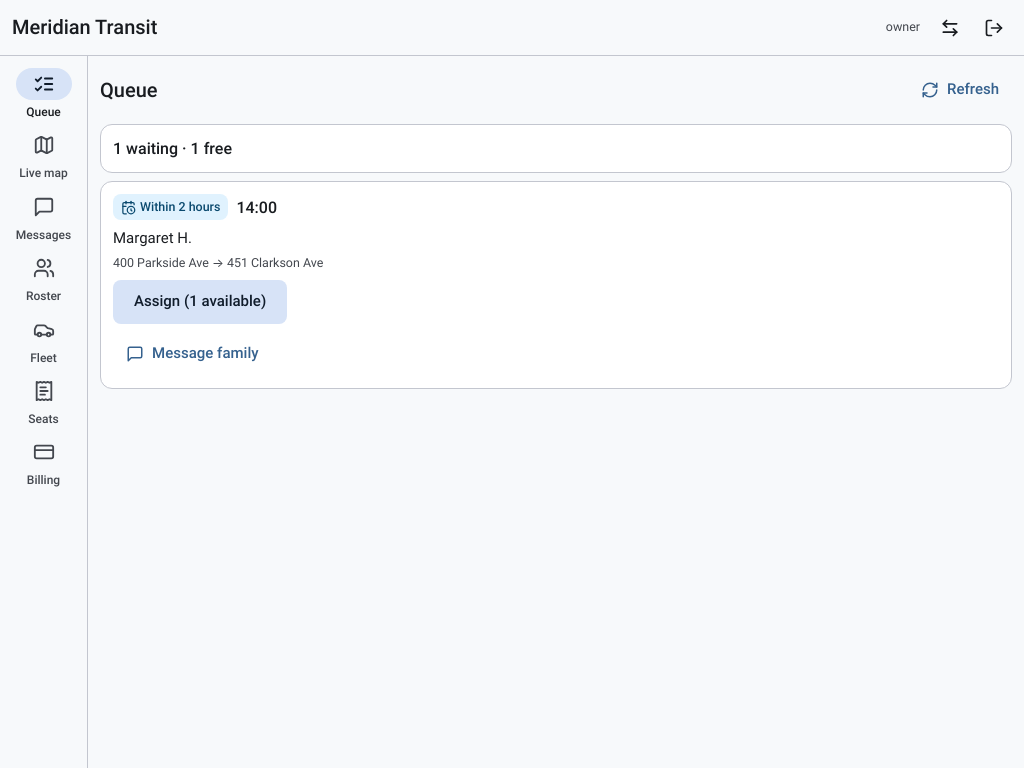
Test case: signing out › clears the session and the chosen operator
The width and height of the screenshot is (1024, 768).
Expected: the heading "Queue" is shown, [100,78,158,102]
What coordinates should you click on to do the following:
click the button named "Sign out"
I would click on:
 (994, 28)
Its box is [972,6,1016,50].
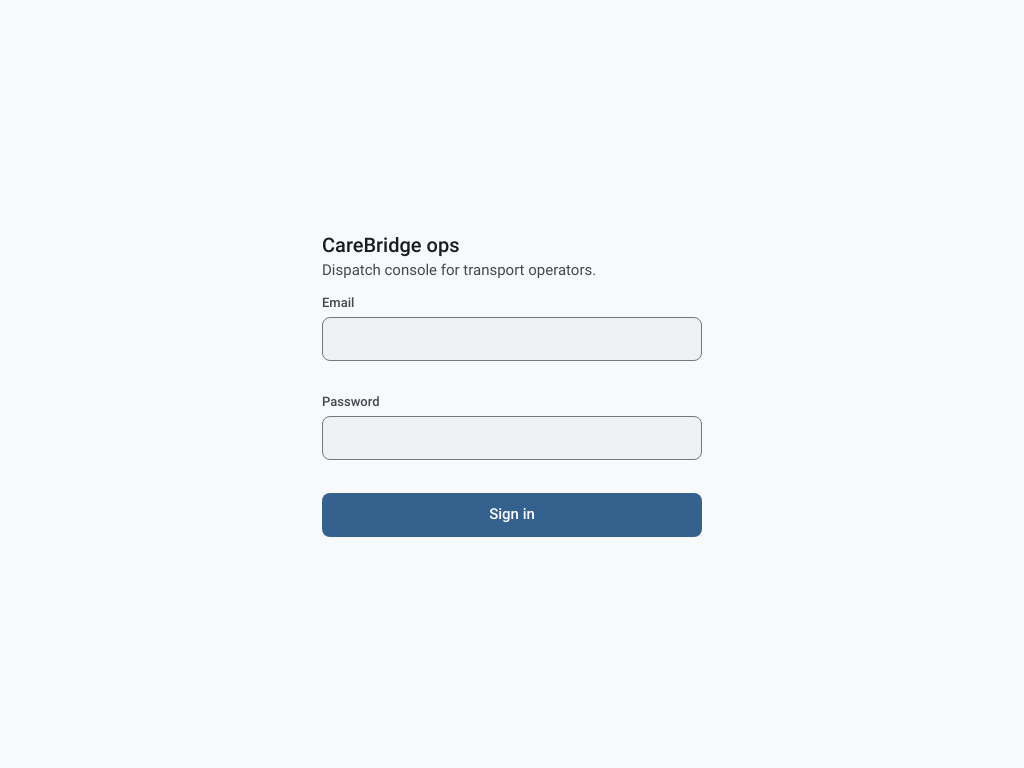
Expected: the button "Sign in" is shown, [322,493,702,537]
